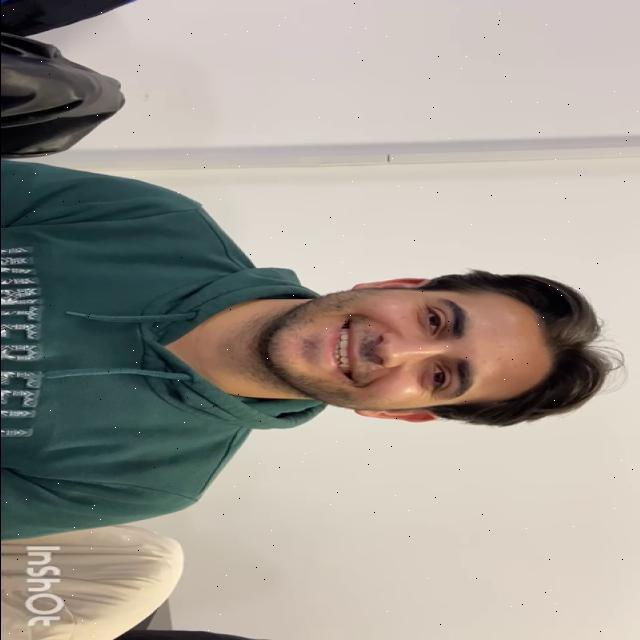Happy: (259, 288, 553, 411)
